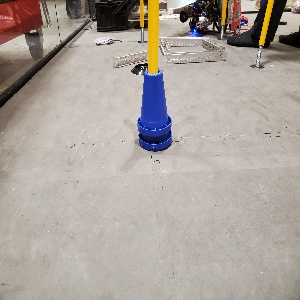Blue_2: (136, 68, 171, 151)
